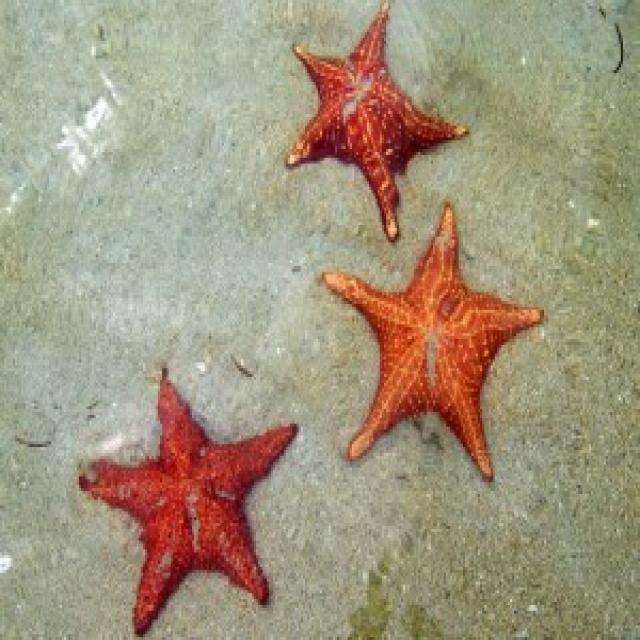Starfish: (61, 350, 300, 638), (314, 214, 554, 482), (262, 3, 474, 205)
jellyfish: (263, 3, 474, 203)
